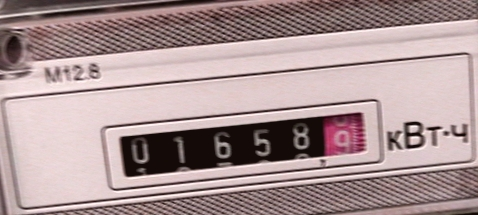0: (128, 133, 152, 167)
1: (172, 134, 188, 166)
5: (251, 126, 274, 160)
6: (212, 129, 235, 162)
8: (290, 120, 312, 154)
9: (331, 128, 352, 156)
screen: (93, 89, 390, 198)
